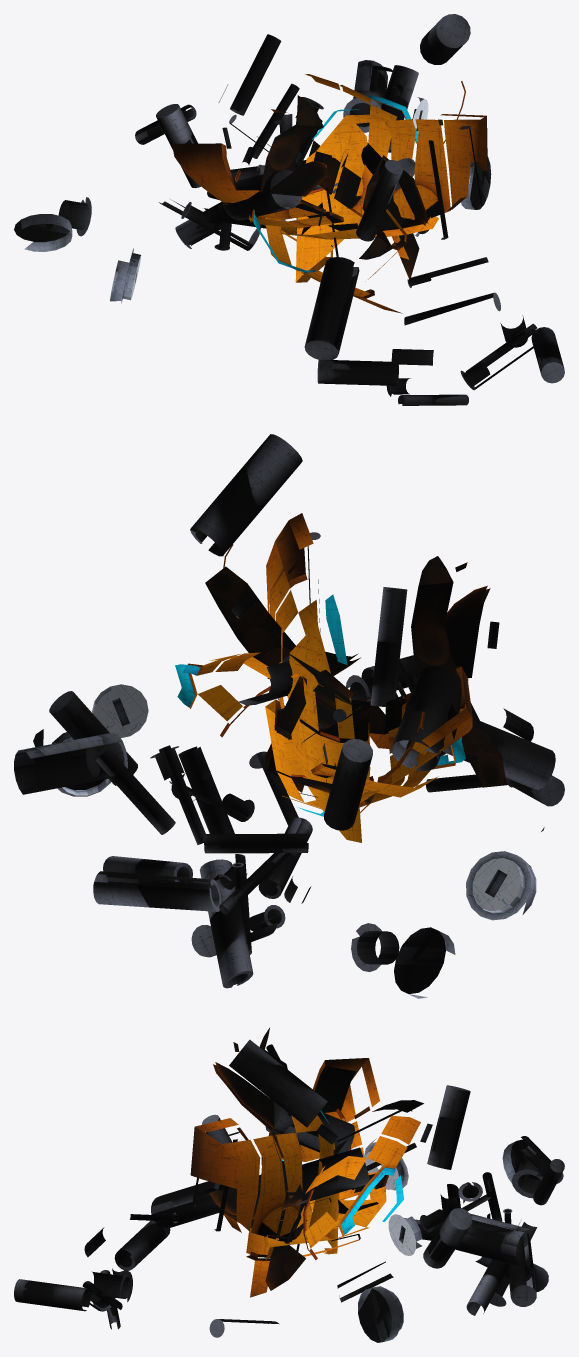
Rendered from MonsterA_die18.obj.
3 renders of one model, top to bottom at view 1: azimuth 30°, elevation 25°; view 2: azimuth 150°, elevation 25°; view 3: azimuth 270°, elevation 25°, orthographic. The views are drawn at different scales.
Parts seen in each view (by area): view 1: Box001; view 2: Box001; view 3: Box001.
Boxes of the visible parts, x1=… form: Box001: x1=14, y1=14, x2=564, y2=405; Box001: x1=14, y1=434, x2=564, y2=998; Box001: x1=14, y1=1028, x2=564, y2=1342.
Bounding box in the file's own units: 431 × 335 × 531.
1 material, 1 textured.
